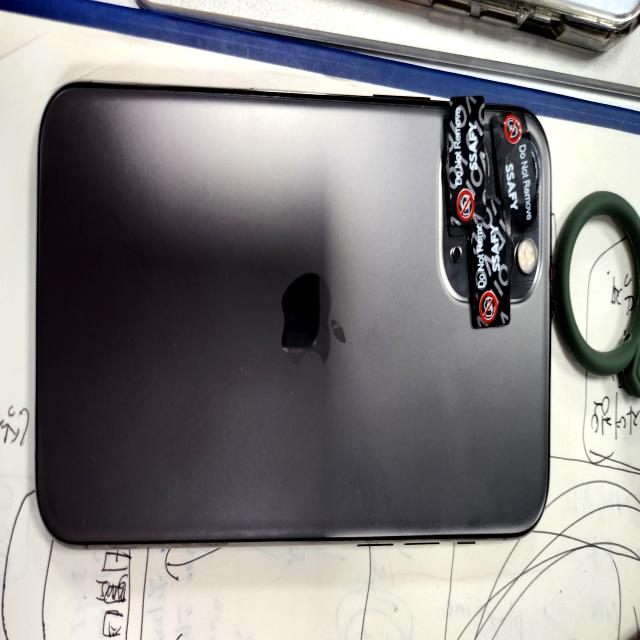phone: (36, 81, 554, 548)
removed_sticker: (469, 204, 511, 327), (448, 94, 484, 222)
sticker: (491, 109, 536, 233)
